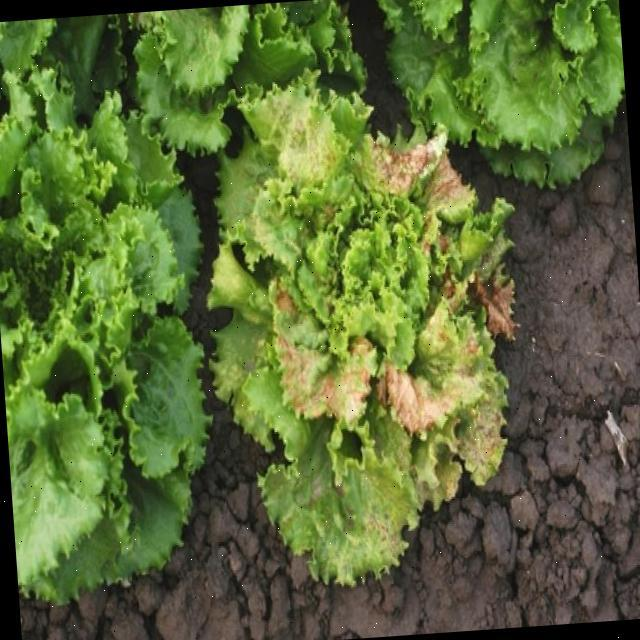Bacterial: (247, 125, 480, 498)
